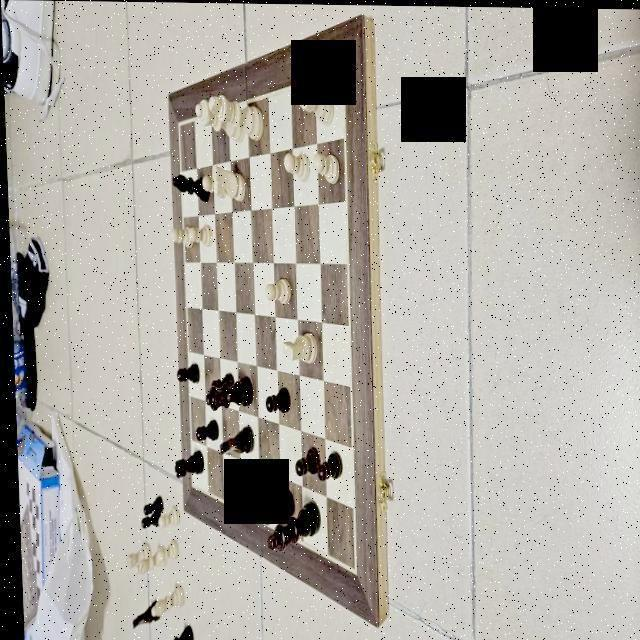chess-table-corners: (337, 60, 346, 80), (347, 561, 353, 577), (175, 119, 181, 130), (186, 480, 190, 490)
